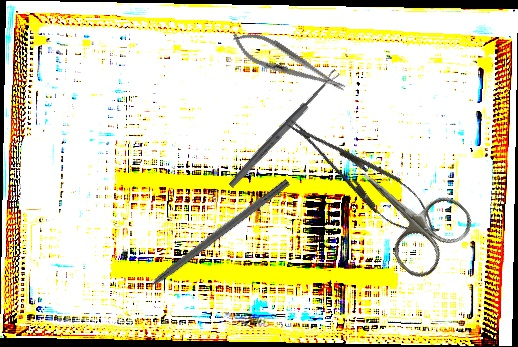Hook Surgical: (129, 176, 291, 303)
Iris Scissors: (334, 141, 480, 285)
Needle Holder: (276, 104, 450, 250), (226, 23, 351, 103)
Surgical Spoon: (227, 68, 341, 190)
